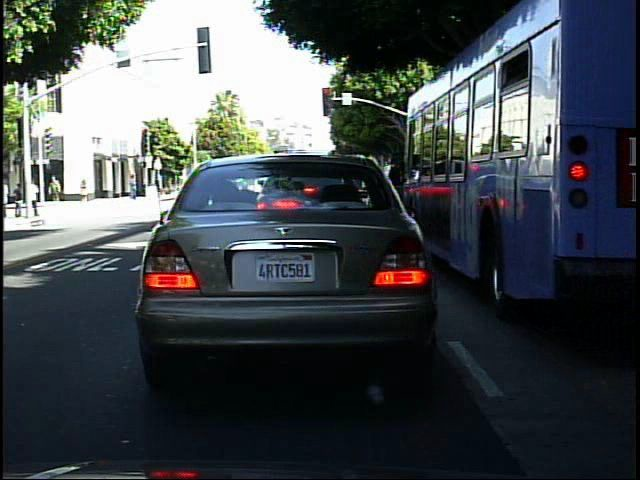person: (76, 171, 94, 209), (11, 179, 26, 221), (48, 172, 67, 205), (125, 170, 143, 204), (30, 174, 43, 217)
